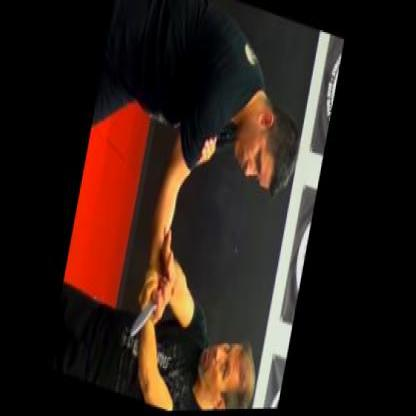knife: (129, 267, 178, 352)
